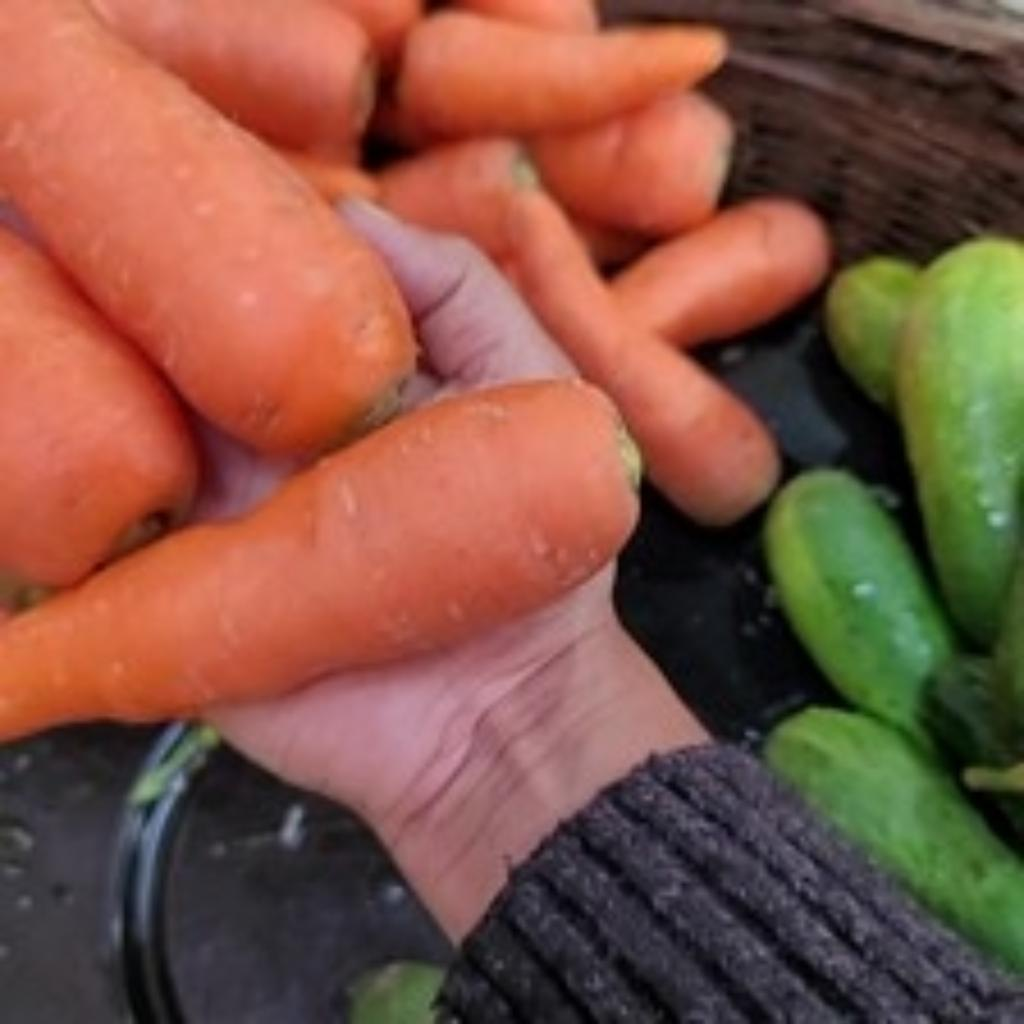carrot: (0, 375, 626, 731)
